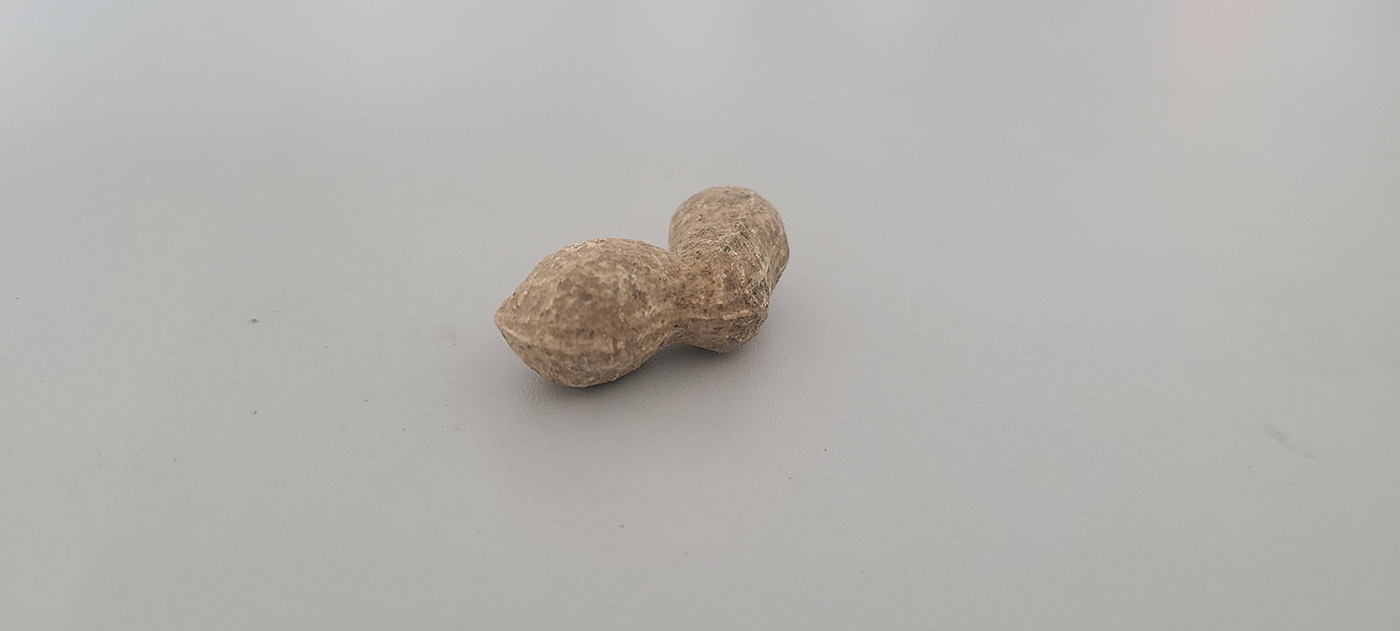h: (495, 184, 792, 393)
